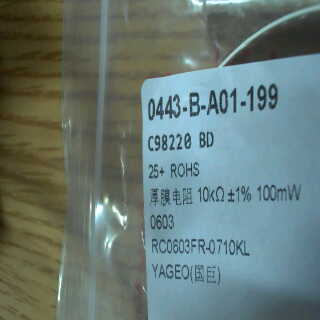10kR: (196, 182, 227, 204)
